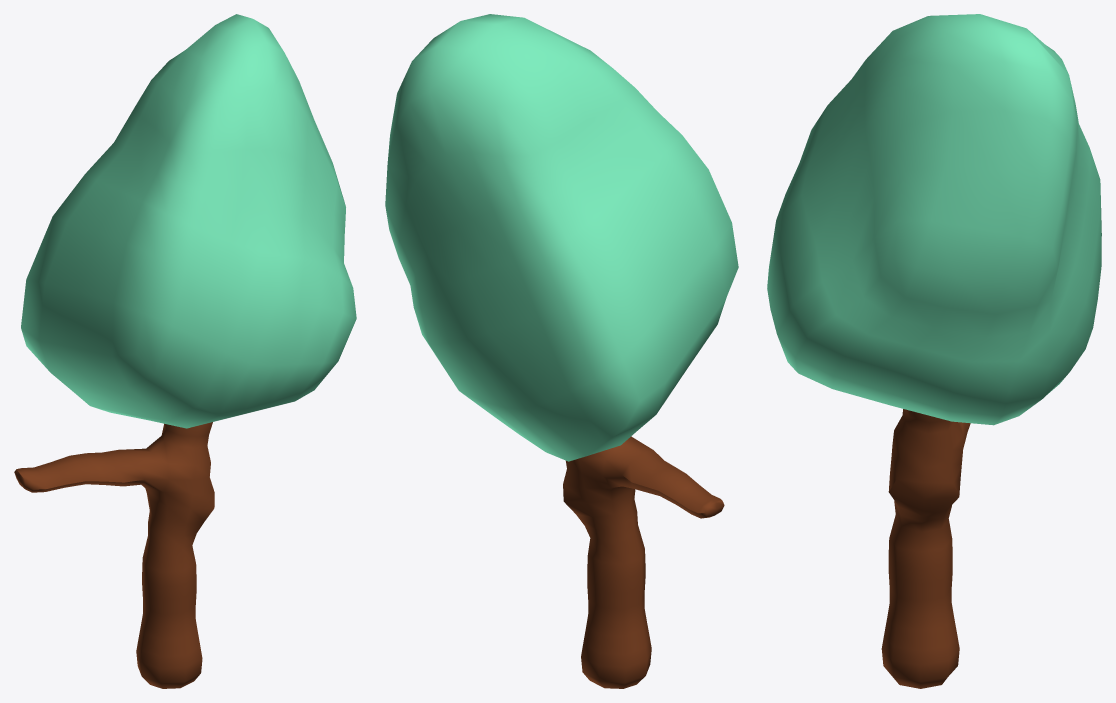
The picture shows the model from 3 angles, left to right: view 1: azimuth 30°, elevation 25°; view 2: azimuth 150°, elevation 25°; view 3: azimuth 270°, elevation 25°; orthographic projection. The views are drawn at different scales.
Parts seen in each view (by area): view 1: BUSH ONE.003, Tree.003; view 2: BUSH ONE.003, Tree.003; view 3: BUSH ONE.003, Tree.003.
Boxes of the visible parts, <box> form: BUSH ONE.003: <box>21,14,356,428</box>; Tree.003: <box>14,422,214,688</box>; BUSH ONE.003: <box>385,14,738,461</box>; Tree.003: <box>563,436,724,688</box>; BUSH ONE.003: <box>767,14,1101,425</box>; Tree.003: <box>881,409,970,688</box>.
Size of the model in its own units: 1220 by 2890 by 1475.
